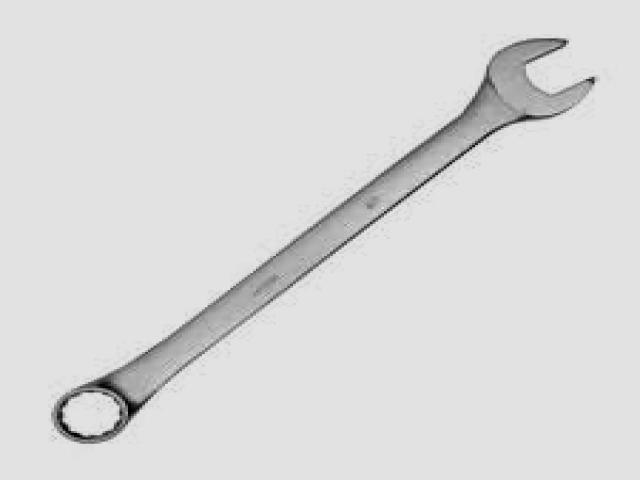Wrench: (55, 39, 593, 443)
